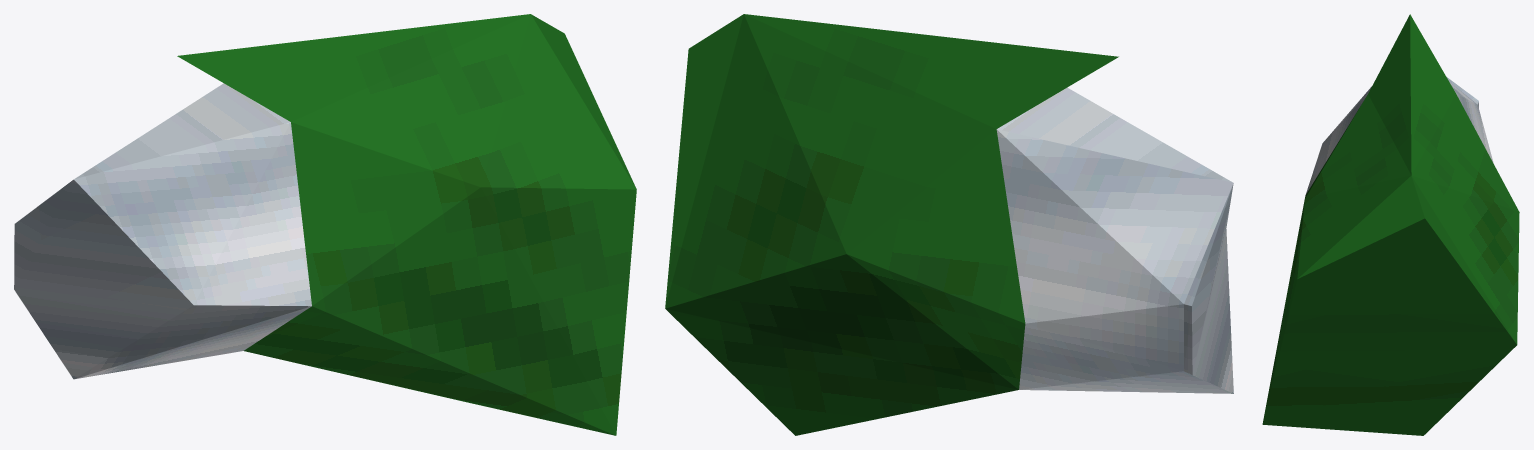
Rendered from Link_armR.obj.
The picture shows the model from 3 angles, left to right: view 1: azimuth 30°, elevation 25°; view 2: azimuth 150°, elevation 25°; view 3: azimuth 270°, elevation 25°; orthographic projection. The views are drawn at different scales.
Visible parts, largest first — view 1: AdultLink; view 2: AdultLink; view 3: AdultLink.
Part boxes in pixels (x1,y1,x2,y2): AdultLink: [14, 14, 636, 435]; AdultLink: [665, 14, 1233, 435]; AdultLink: [1262, 14, 1519, 435].
Bounding box in the file's own units: 1.95 × 1.54 × 1.14.
